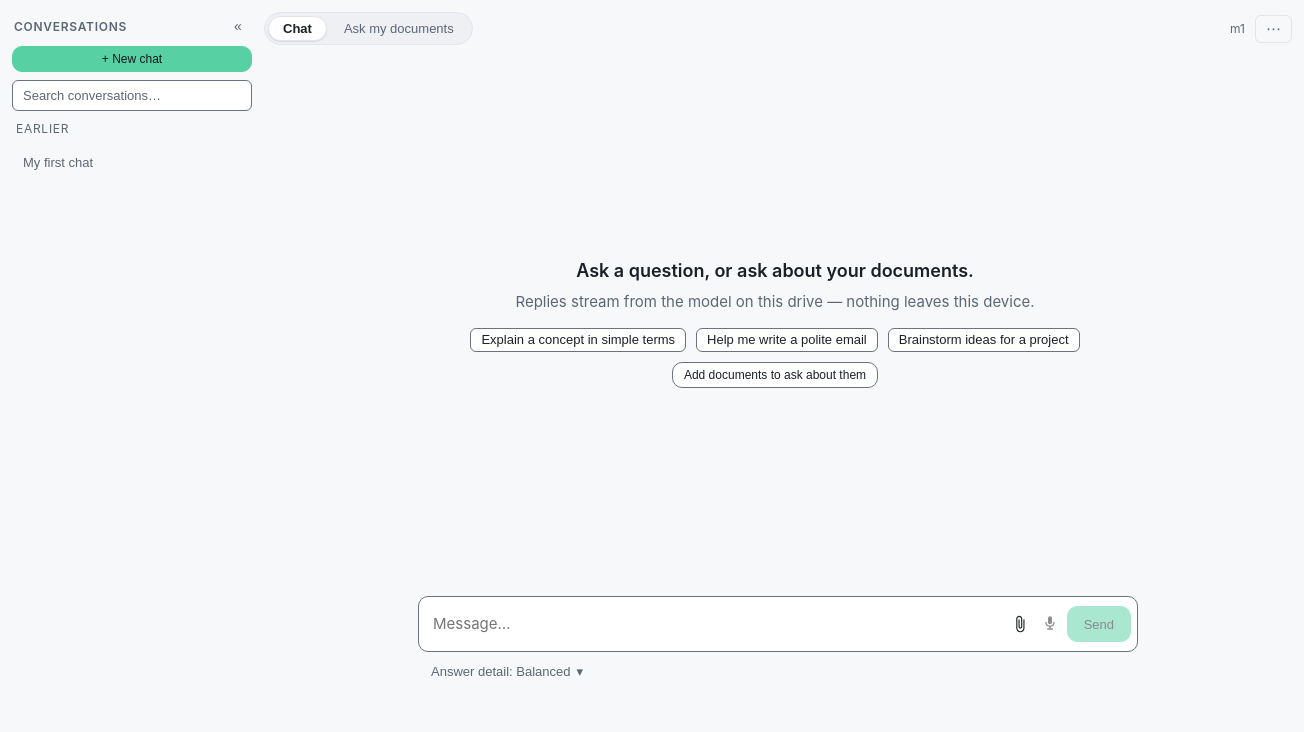
Test: ChatScreen — markdown rendering › leaves user messages as plain text (asterisks intact)
The image size is (1304, 732).
Click the button "My first chat" at point(116, 162), box x1=12 y1=142 x2=221 y2=182
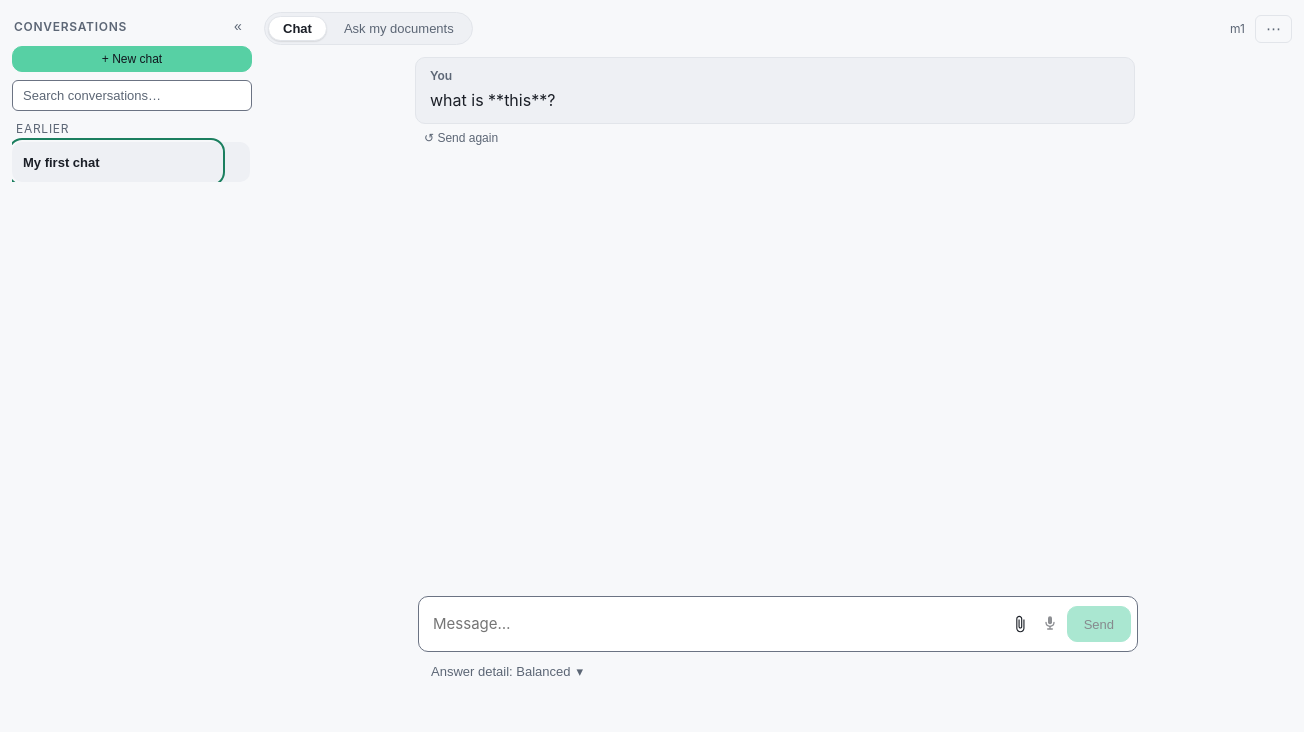
Now the text "what is **this**?" is shown, box x1=430 y1=90 x2=555 y2=110
